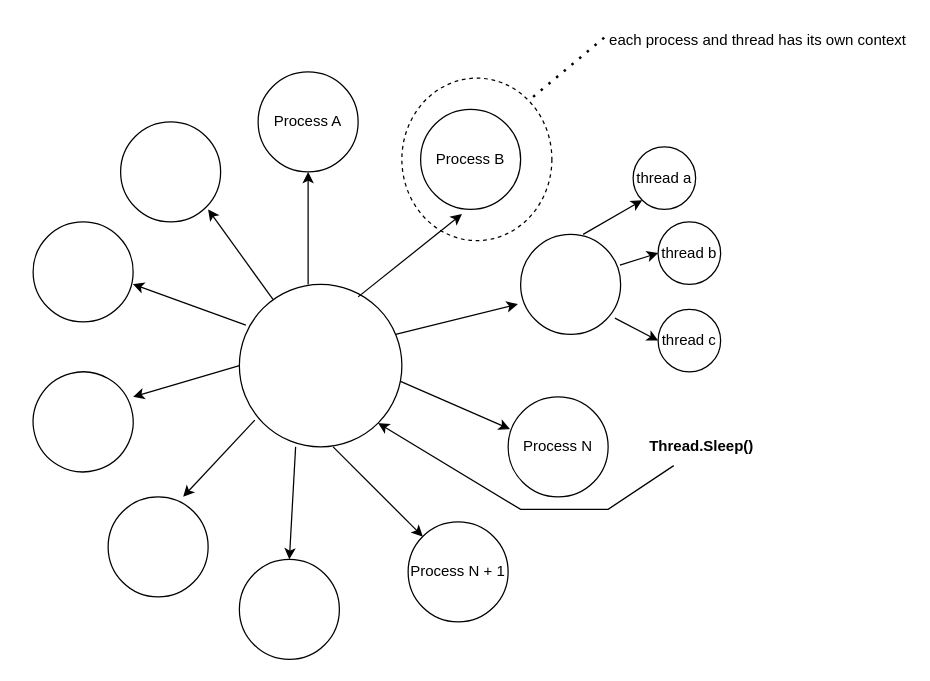
Image size: 930x681. Some labels were removed from this diagram. Each missing label, with the centre of its shape:
Process C: (x=570, y=283)
scheduler gives execution time according to priorities: (x=320, y=365)
